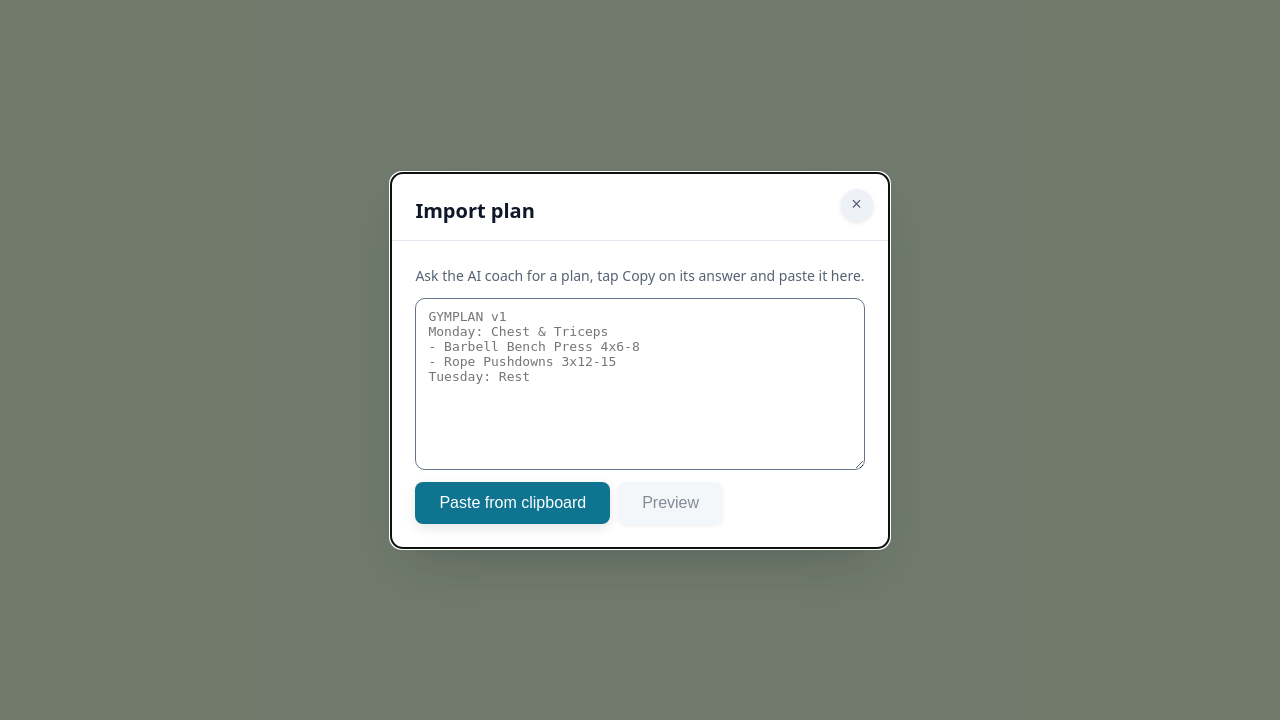
ImportPlanModal › shows an error for text without a plan and never applies
Step 1. Replace the text in the text box named "Paste the plan here" with "Hi there, here is my week in prose." → point(640, 384), box x1=415 y1=298 x2=864 y2=470
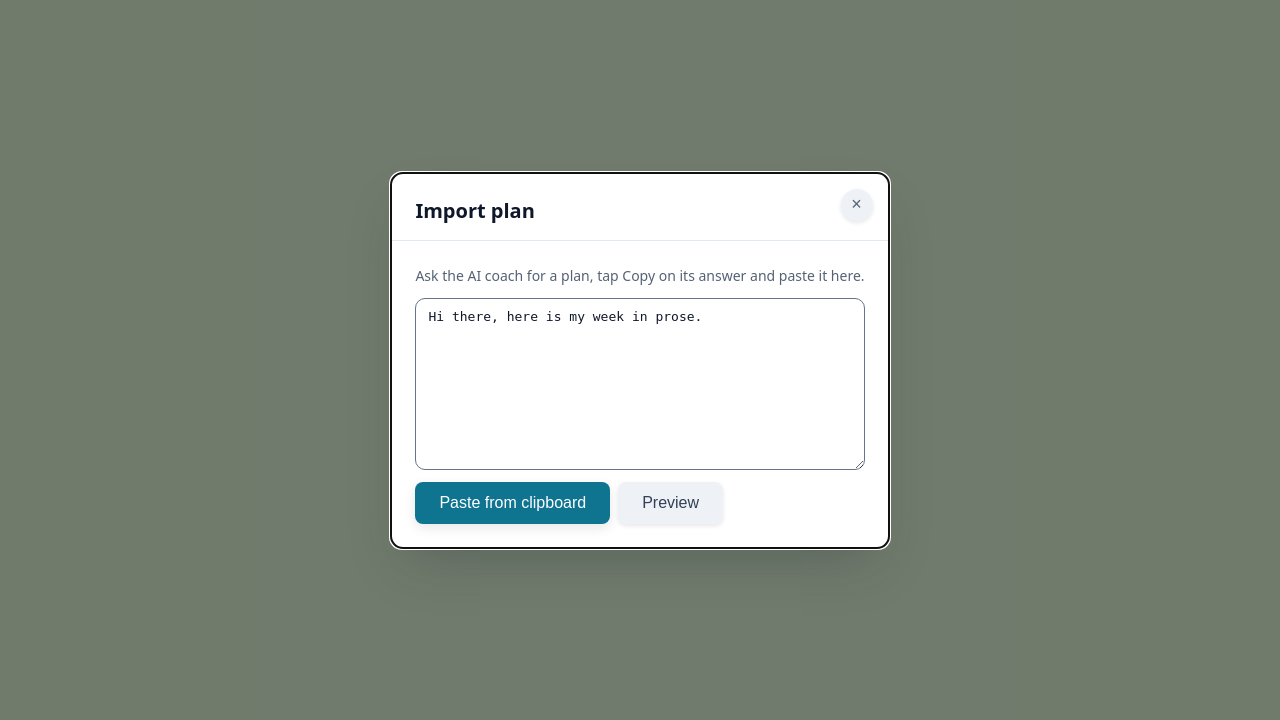
Step 2. Click the button "Preview" → point(671, 502), box x1=618 y1=482 x2=723 y2=524
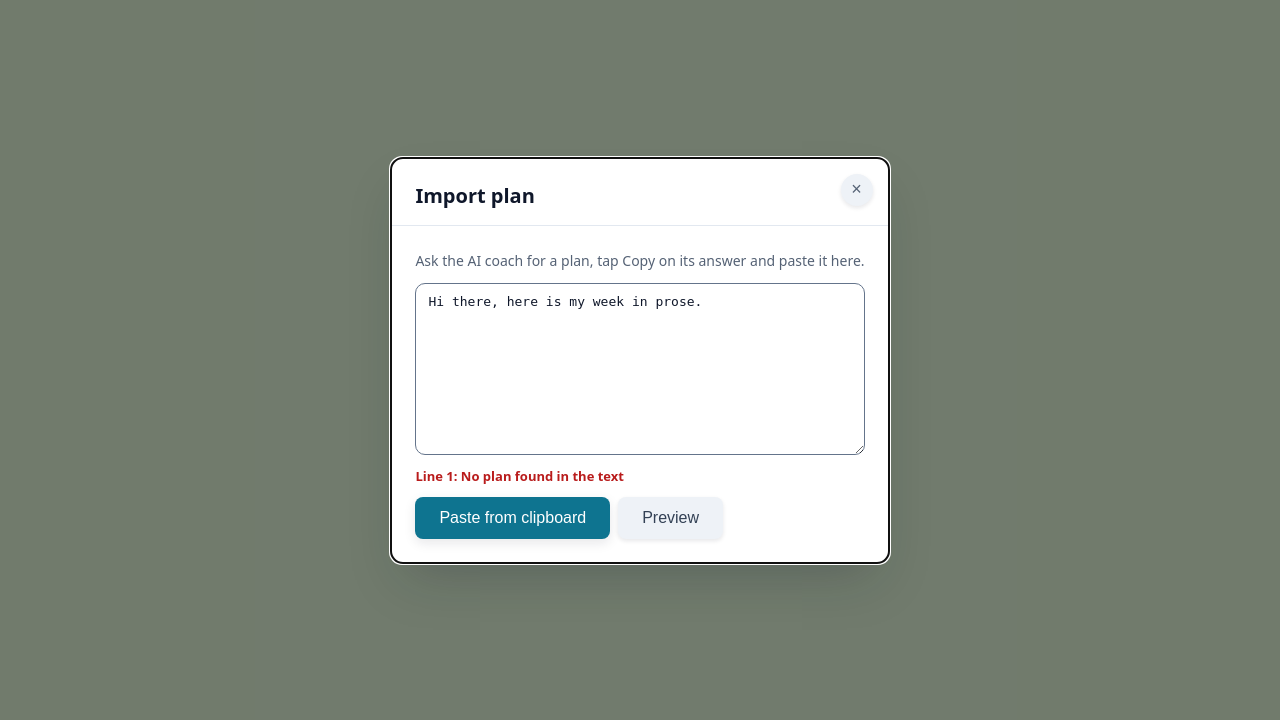
Check: the message shows "No plan found in the text", box x1=415 y1=466 x2=624 y2=484
